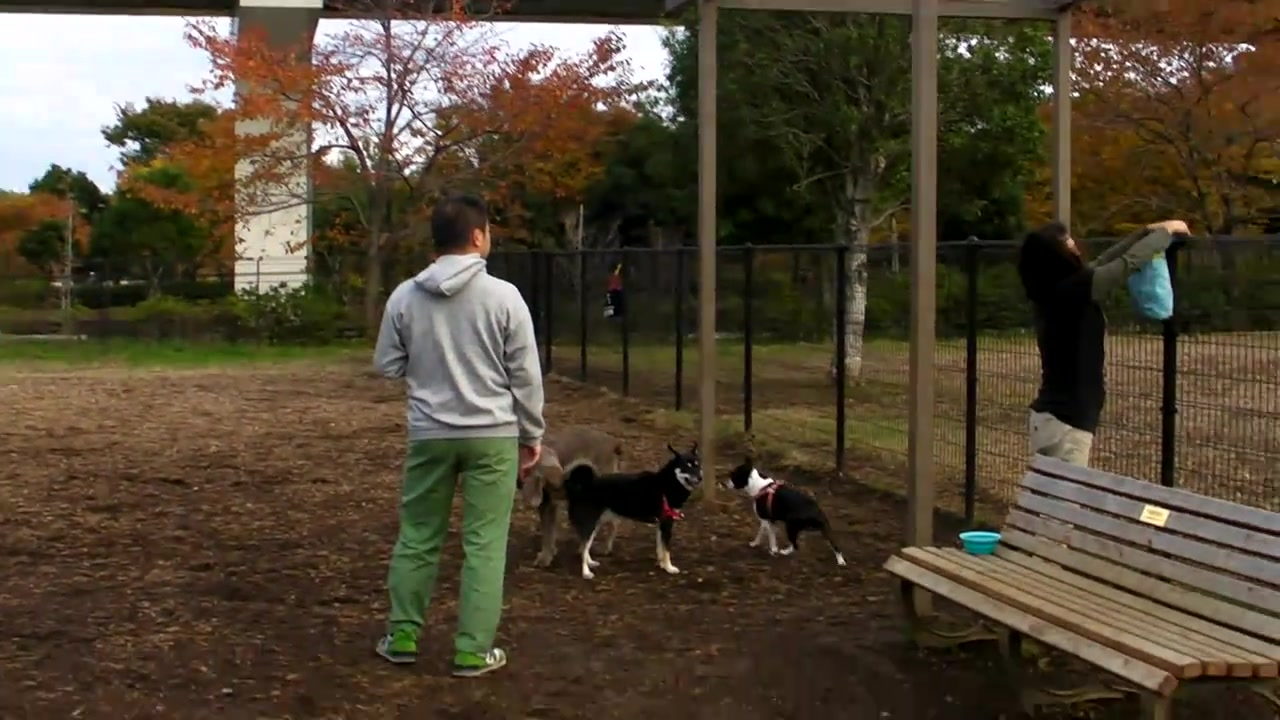dog: (558, 441, 709, 581)
